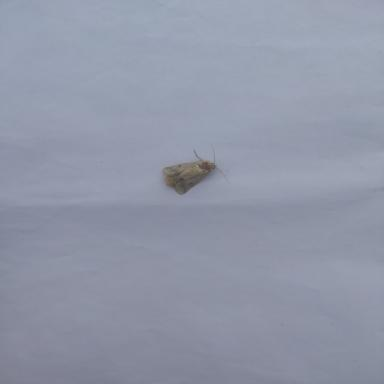abw: (160, 144, 231, 195)
